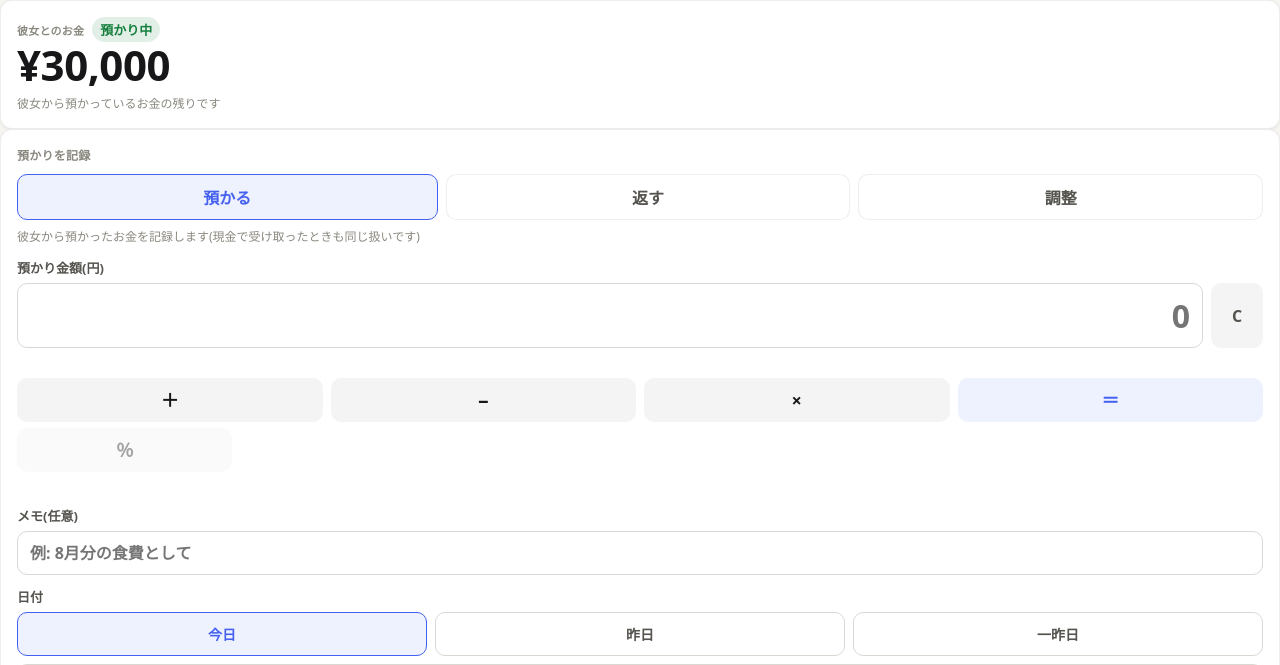
Test case: 記録カードが保存する種別と符号 › 調整のときだけ向きを選ばせる(預かる・返すは種別で向きが決まっている)
Click the button "返す" at (648, 197), box [446,174,850,220]
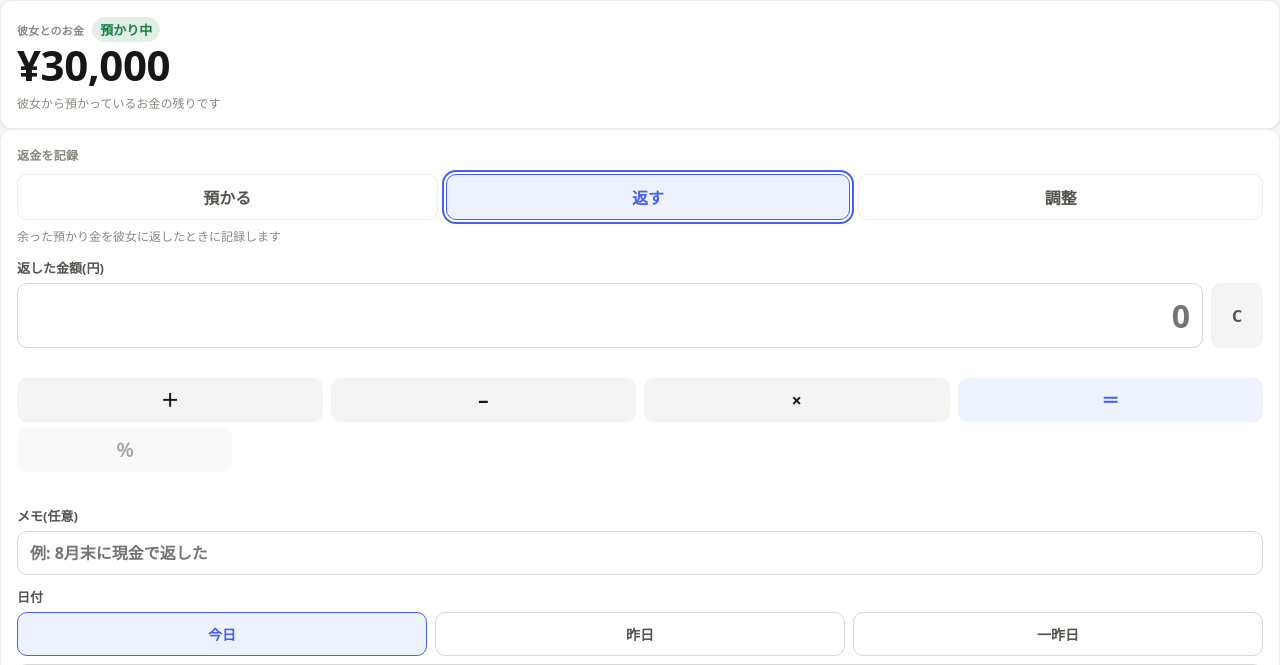
Click the button "調整" at (1061, 197), box [858,174,1263,220]
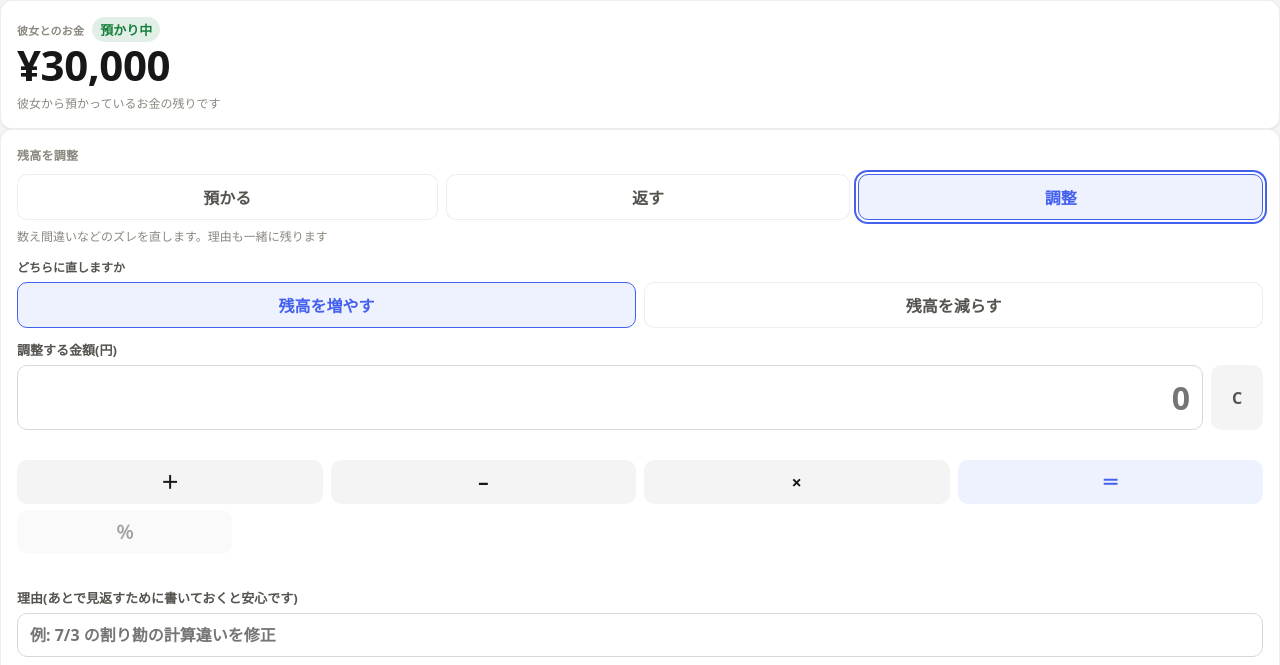
Check: the element named "調整の向き" is shown, box [17,282,1263,328]
